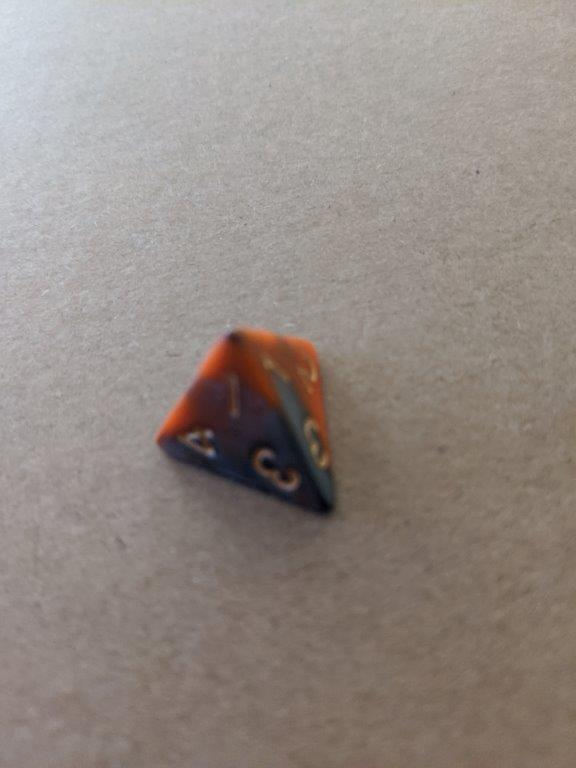d4-1: (148, 317, 340, 521)
